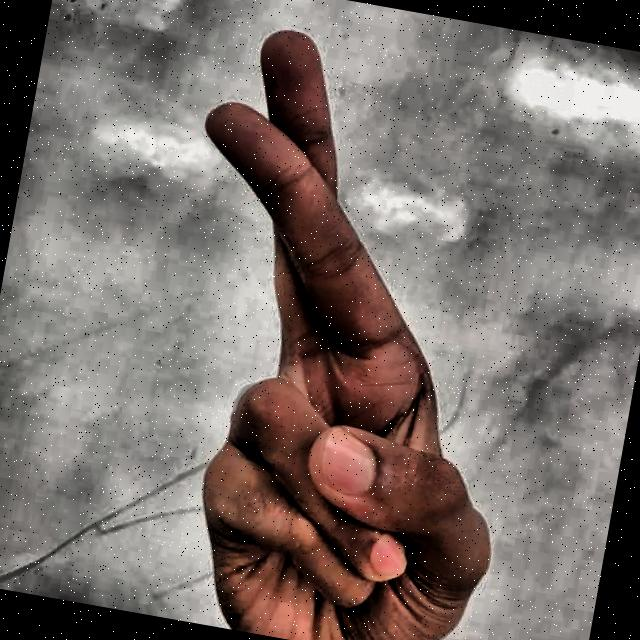Ra: (82, 0, 598, 640)
